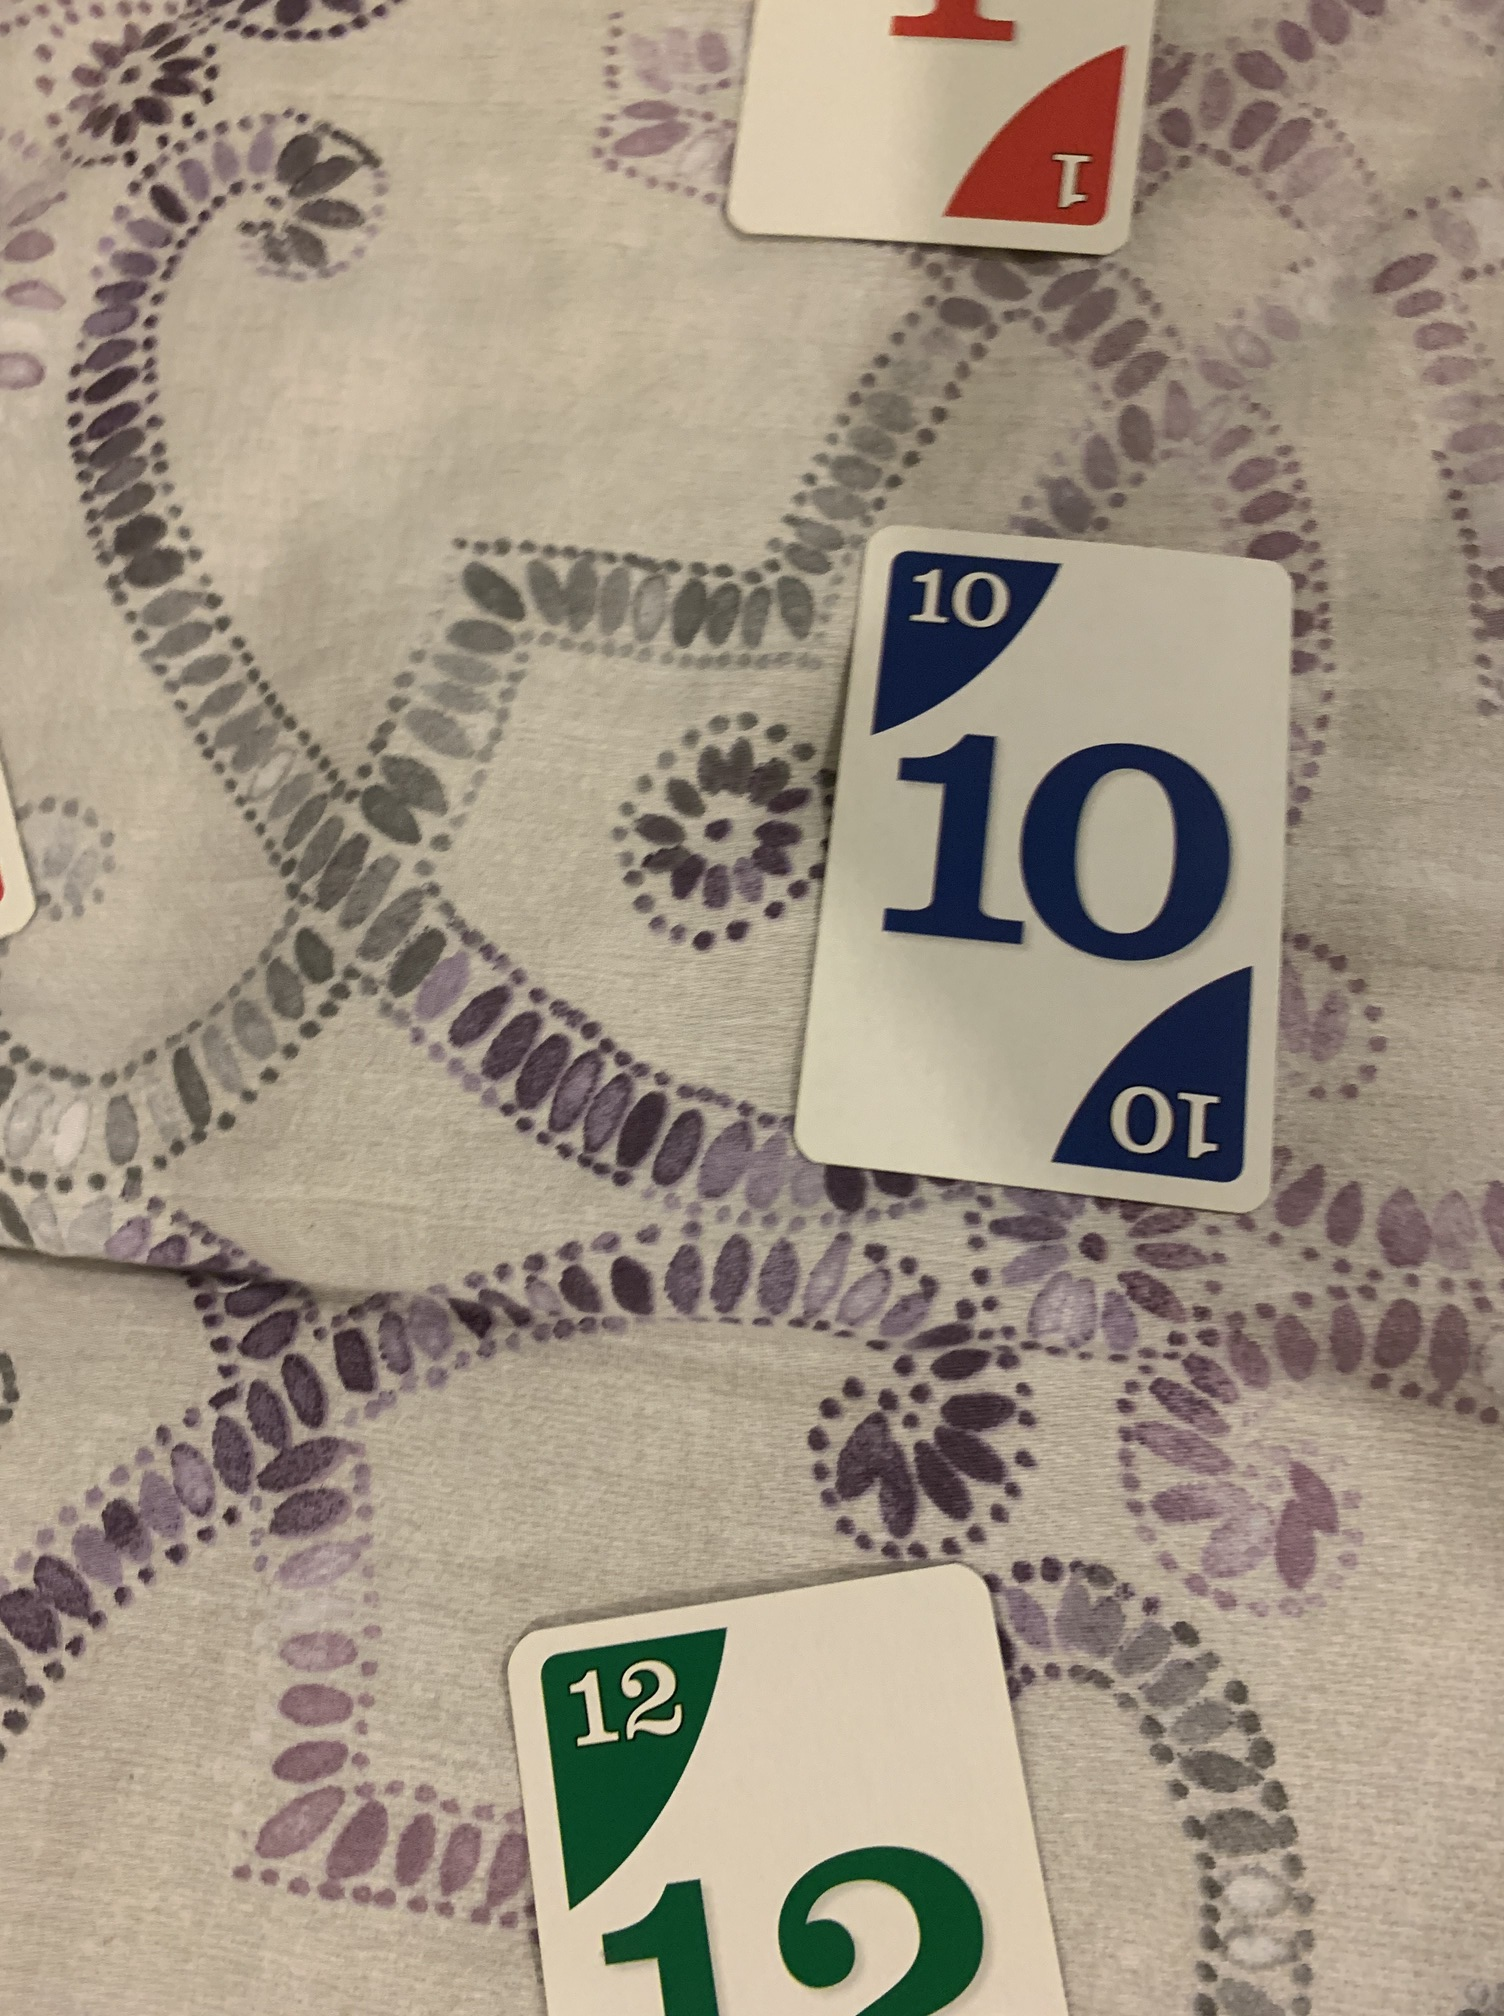ten: (785, 518, 1303, 1236)
twelve: (491, 1556, 1076, 2016)
